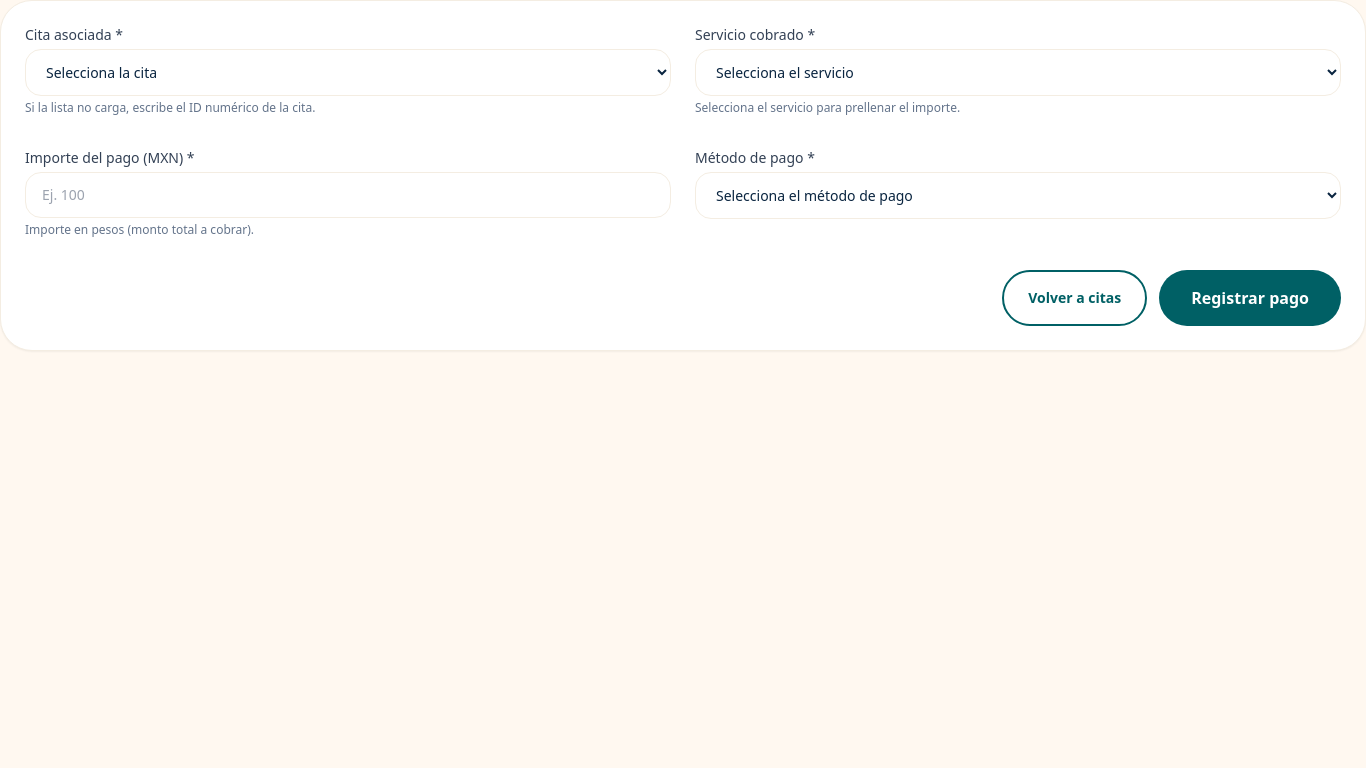
Test: FE-011-T05 estados UX del flujo de pagos › PaymentForm › error: mensaje de error visible ante error 422 del servidor
The image size is (1366, 768).
Expected: the field labelled "Importe del pago (MXN) *" is shown, x1=25 y1=172 x2=671 y2=218
Select "#3 · 24 ago 2026, 09:00 a.m. · Consulta · Mascota #5" in the dropdown labelled "Cita asociada *" at (348, 72), box x1=25 y1=49 x2=671 y2=96
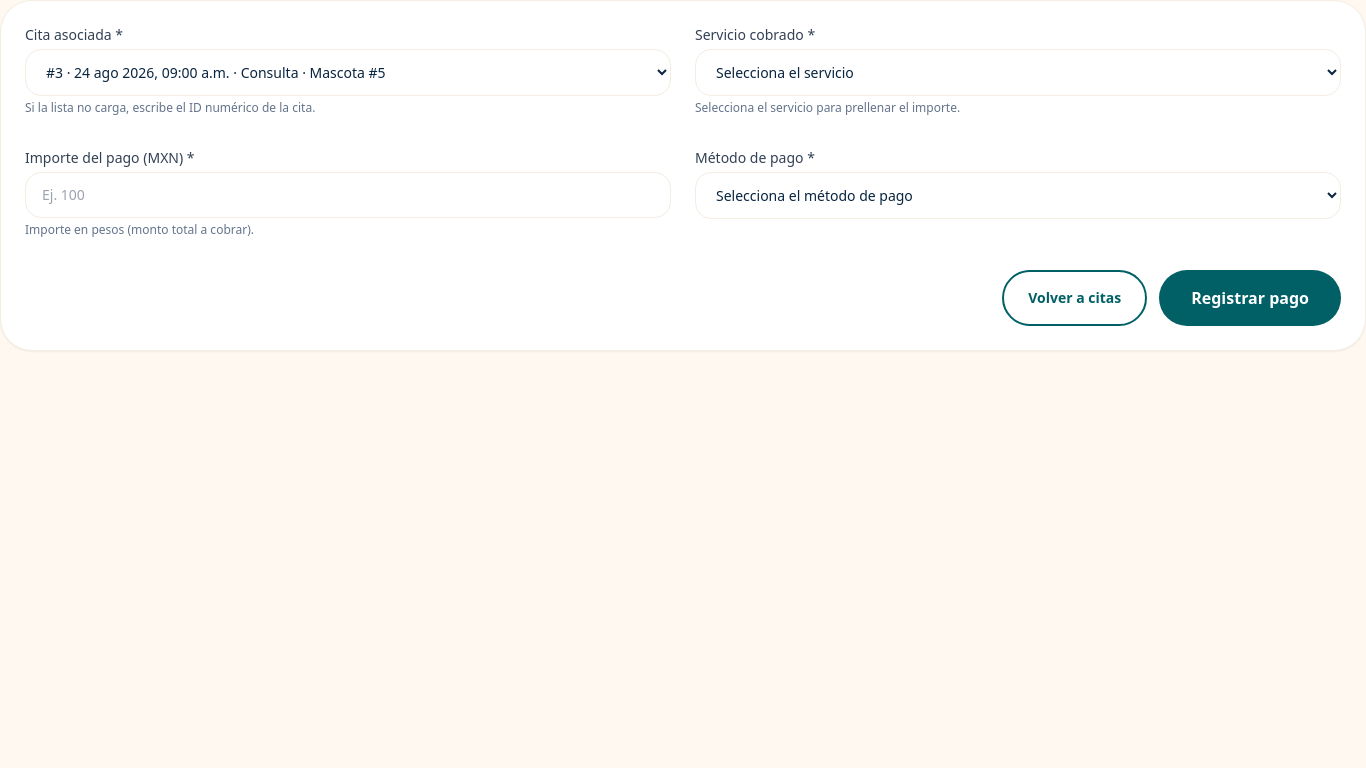
Select "Consulta general · $150 MXN" in the dropdown labelled "Servicio cobrado *" at (1018, 72), box x1=695 y1=49 x2=1341 y2=96
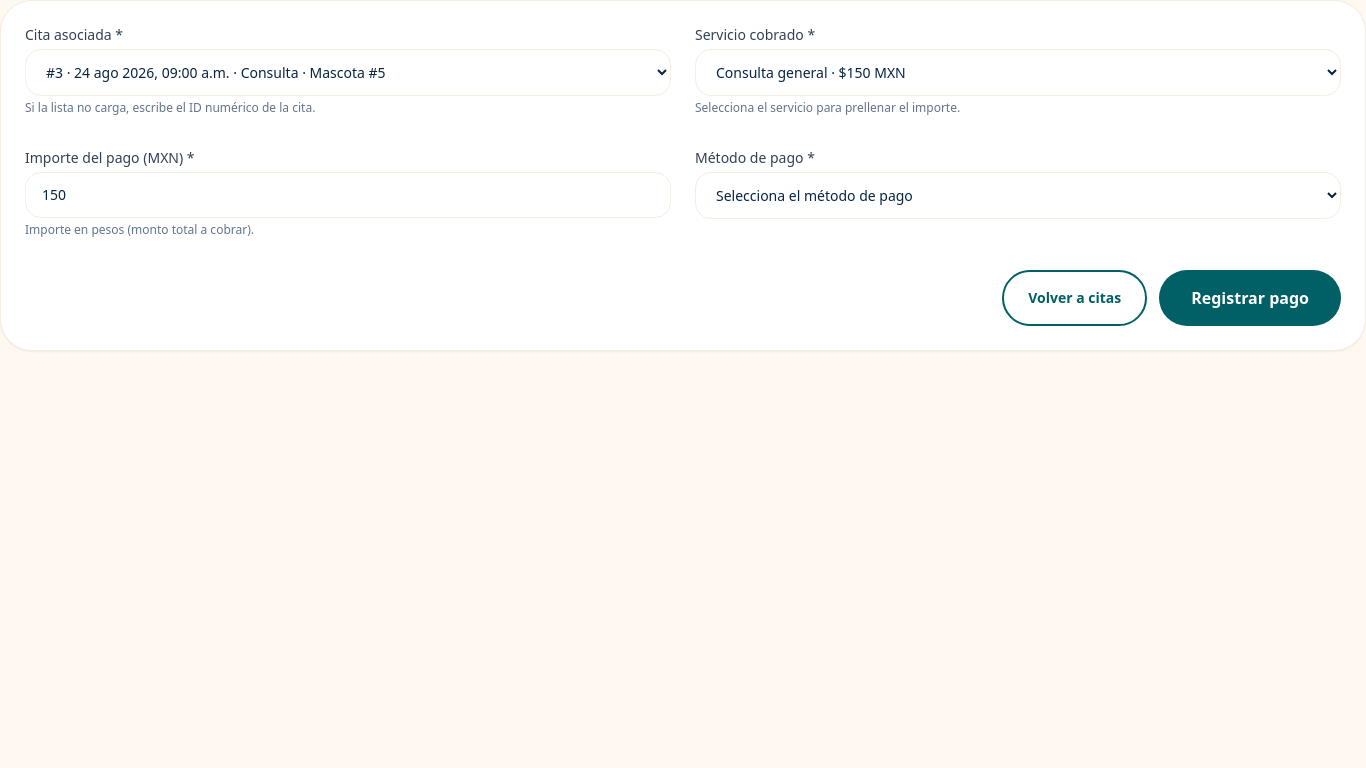
Expected: the field showing "150" is shown, x1=25 y1=172 x2=671 y2=218
Select "Efectivo" in the dropdown labelled "Método de pago *" at (1018, 196), box x1=695 y1=172 x2=1341 y2=219
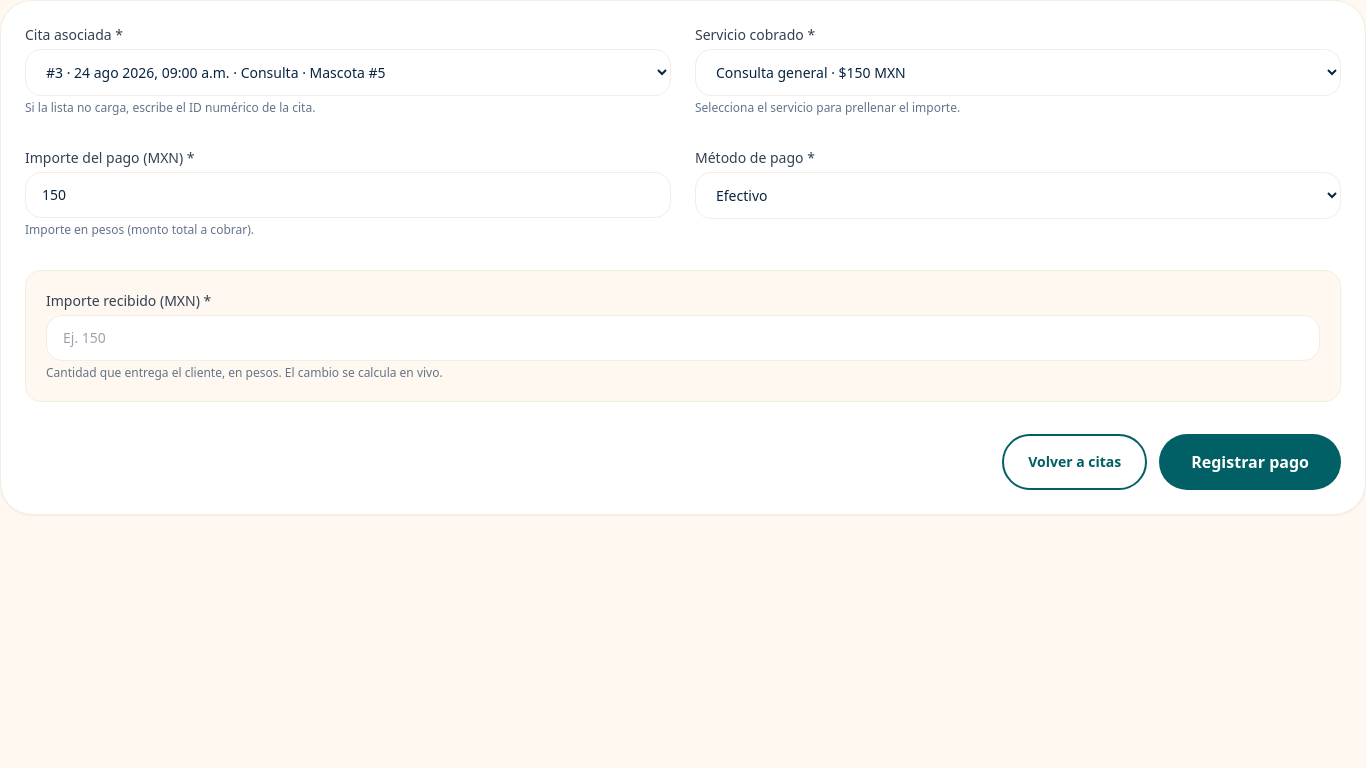
Expected: the field labelled "Importe recibido (MXN) *" is shown
Type "200" into the field labelled "Importe recibido (MXN) *" at (683, 338), box x1=46 y1=315 x2=1320 y2=361
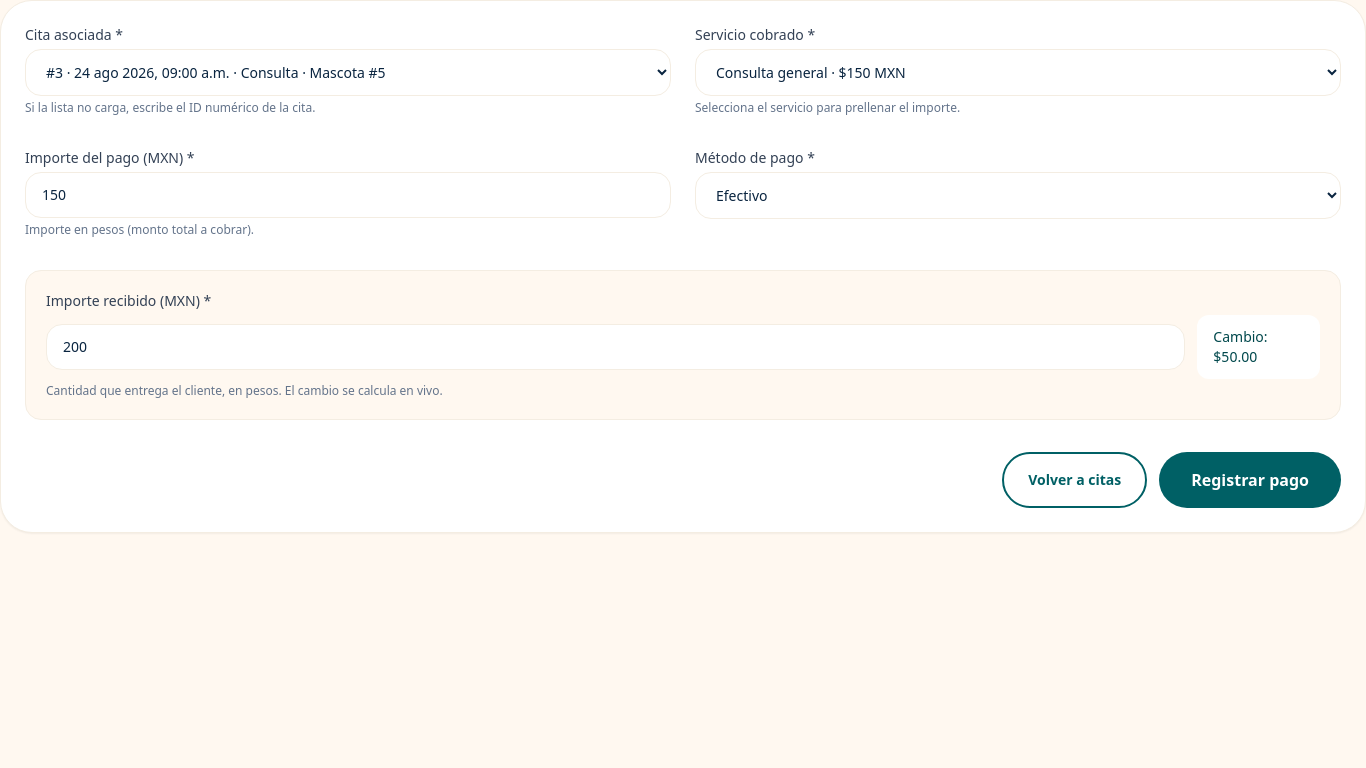
Click the button "Registrar pago" at (1250, 480), box x1=1159 y1=452 x2=1341 y2=508
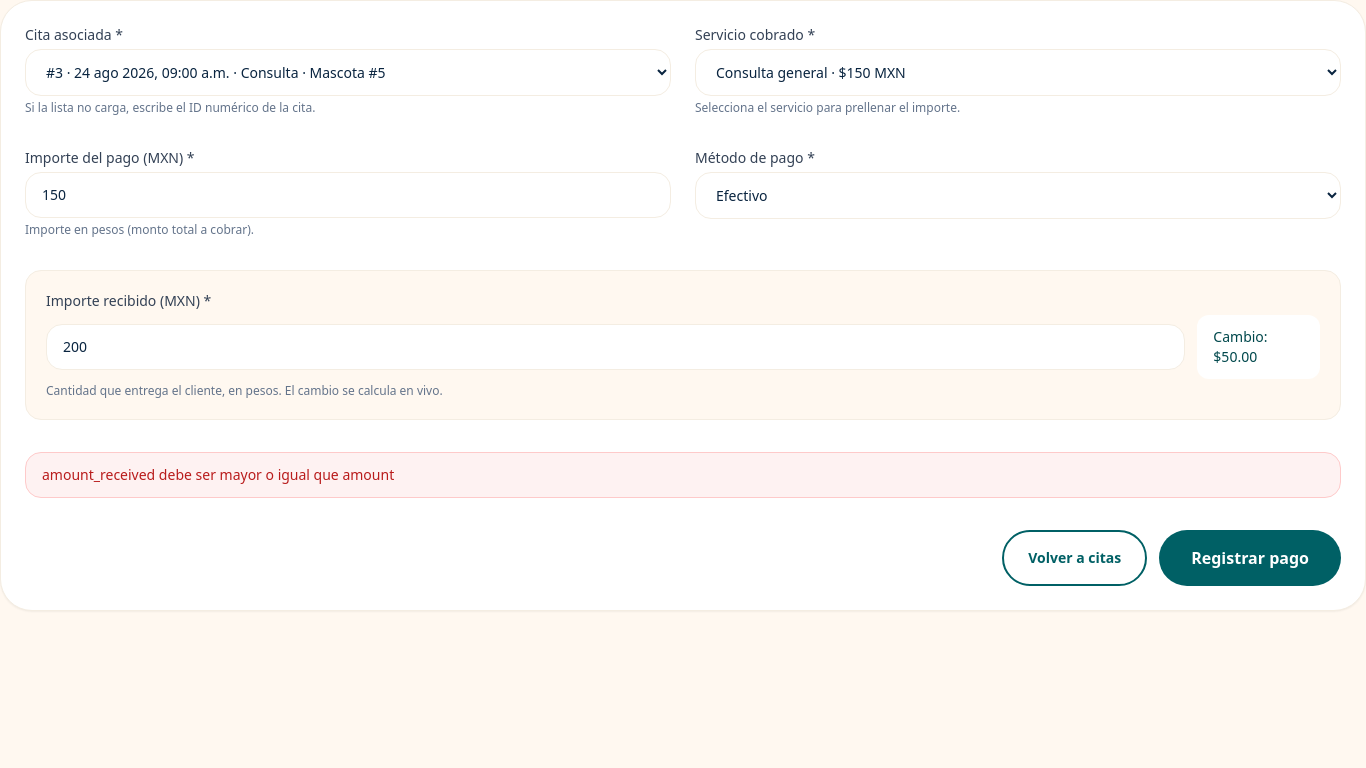
Expected: the message "amount_received debe ser mayor o igual que amount" is shown, x1=25 y1=452 x2=1341 y2=498
